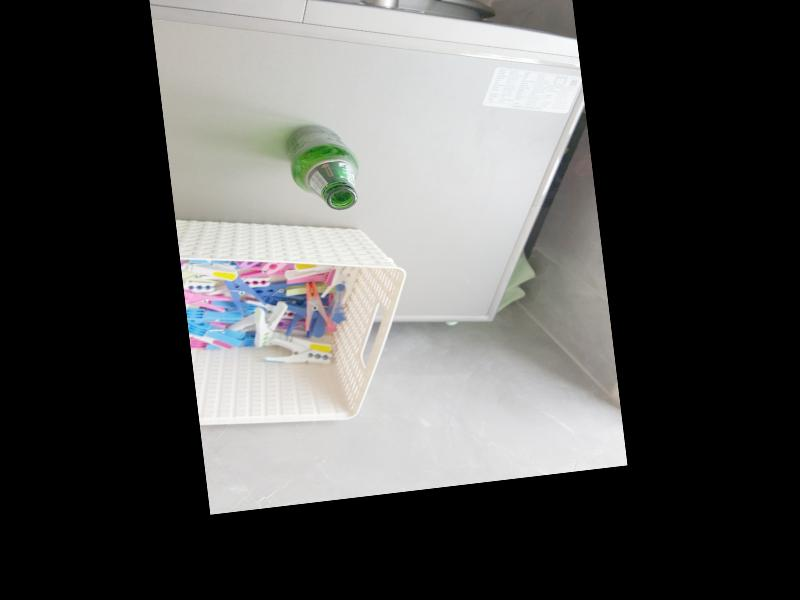Beer: (284, 119, 359, 214)
